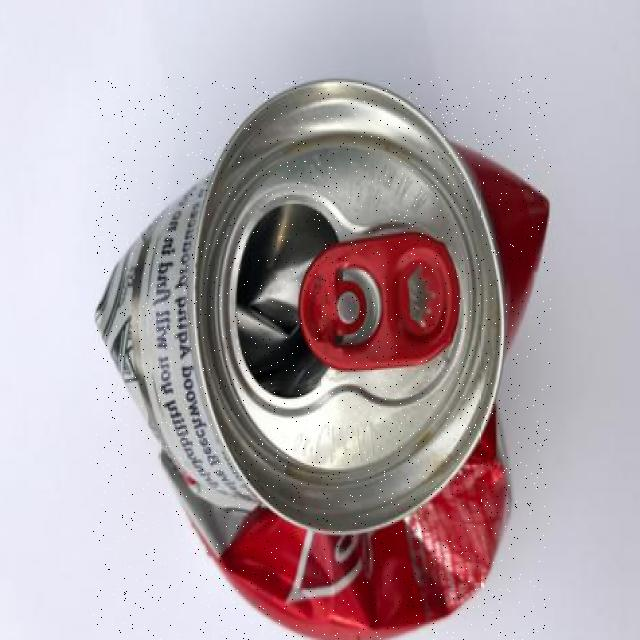metal: (93, 76, 551, 640)
